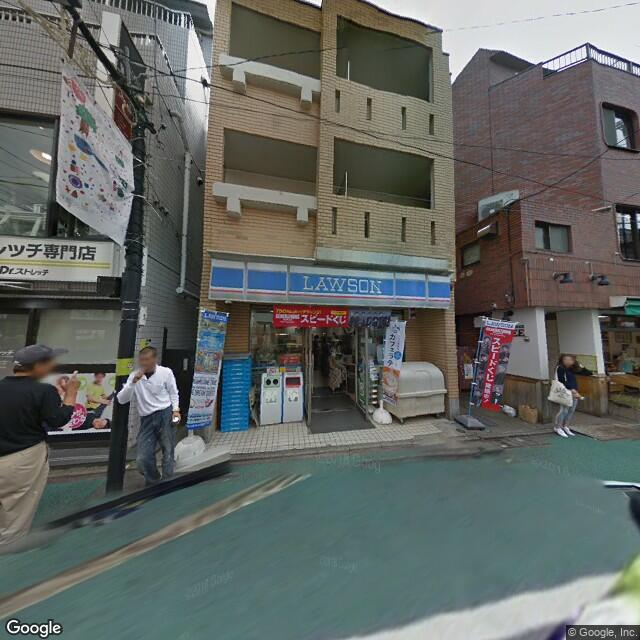lawson: (203, 252, 456, 311)
